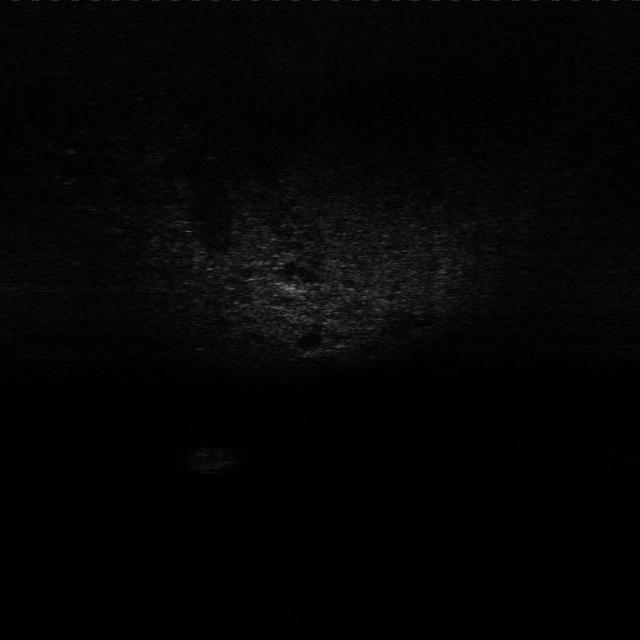circle cage: (181, 440, 243, 476)
